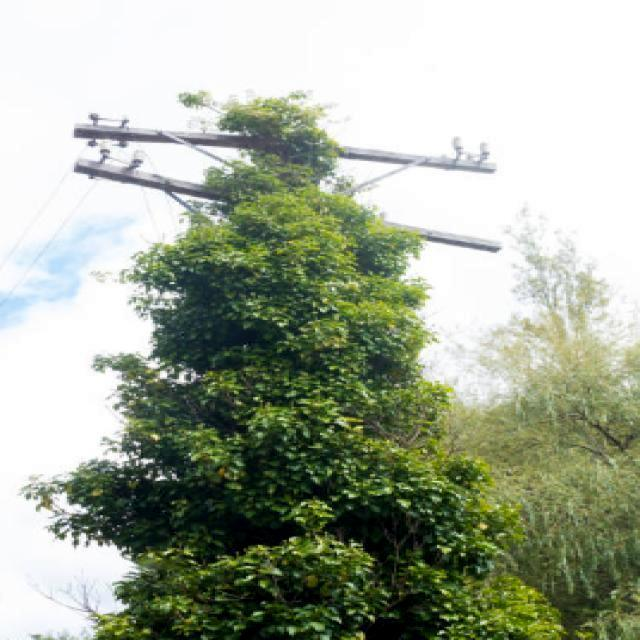critical vegetation: (153, 95, 456, 632)
